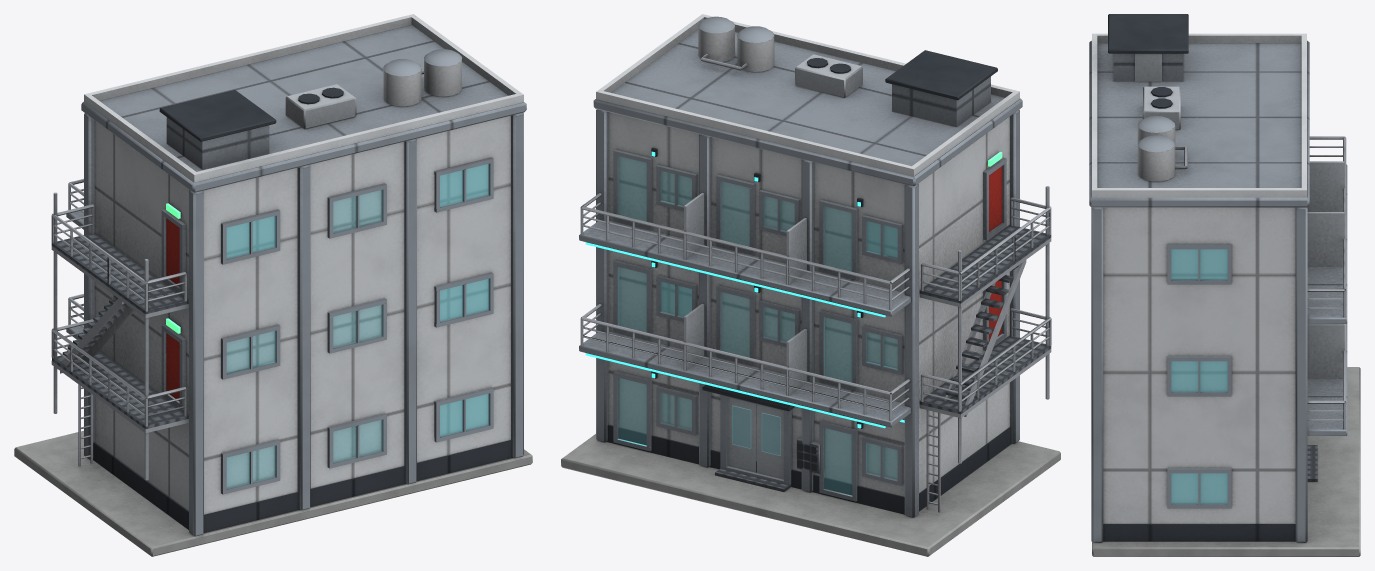
File: apartamento_bloque.fbx
3 renders of one model, left to right at view 1: azimuth 30°, elevation 25°; view 2: azimuth 150°, elevation 25°; view 3: azimuth 270°, elevation 25°, orthographic. The views are drawn at different scales.
Parts seen in each view (by area): view 1: apartamento_bloque, apartamento_bloque_cristal, apartamento_bloque_puerta_emergencia_2, apartamento_bloque_puerta_emergencia_1; view 2: apartamento_bloque, apartamento_bloque_cristal, apartamento_bloque_puerta_izq, apartamento_bloque_neon, apartamento_bloque_puerta_der, apartamento_bloque_puerta_emergencia_2; view 3: apartamento_bloque, apartamento_bloque_cristal, apartamento_bloque_puerta_azotea.
Part boxes in pixels (x1,y1,x2,y2): apartamento_bloque: (14,14,532,556); apartamento_bloque_cristal: (226,164,489,488); apartamento_bloque_puerta_emergencia_2: (166,218,179,286); apartamento_bloque_puerta_emergencia_1: (166,333,179,401); apartamento_bloque: (561,14,1060,556); apartamento_bloque_cristal: (618,156,897,495); apartamento_bloque_puerta_izq: (727,397,756,472); apartamento_bloque_neon: (585,151,904,428); apartamento_bloque_puerta_der: (757,404,783,479); apartamento_bloque_puerta_emergencia_2: (989,166,1002,231); apartamento_bloque: (1089,14,1360,556); apartamento_bloque_cristal: (1171,249,1227,504); apartamento_bloque_puerta_azotea: (1135,53,1161,81).
Size of the model in its own units: 16 by 16.05 by 10.1.
3 materials, 3 textured.
